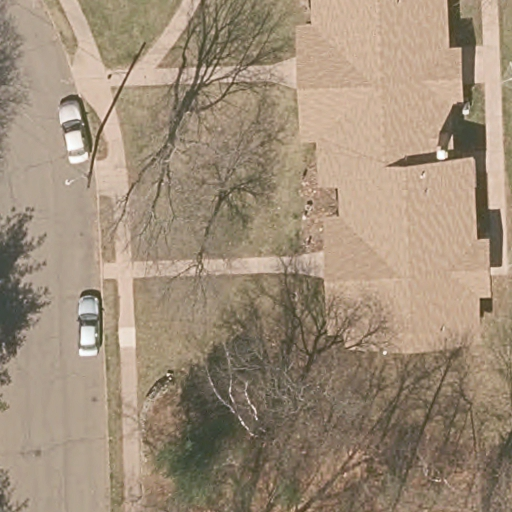DT: (65, 130, 102, 189)
